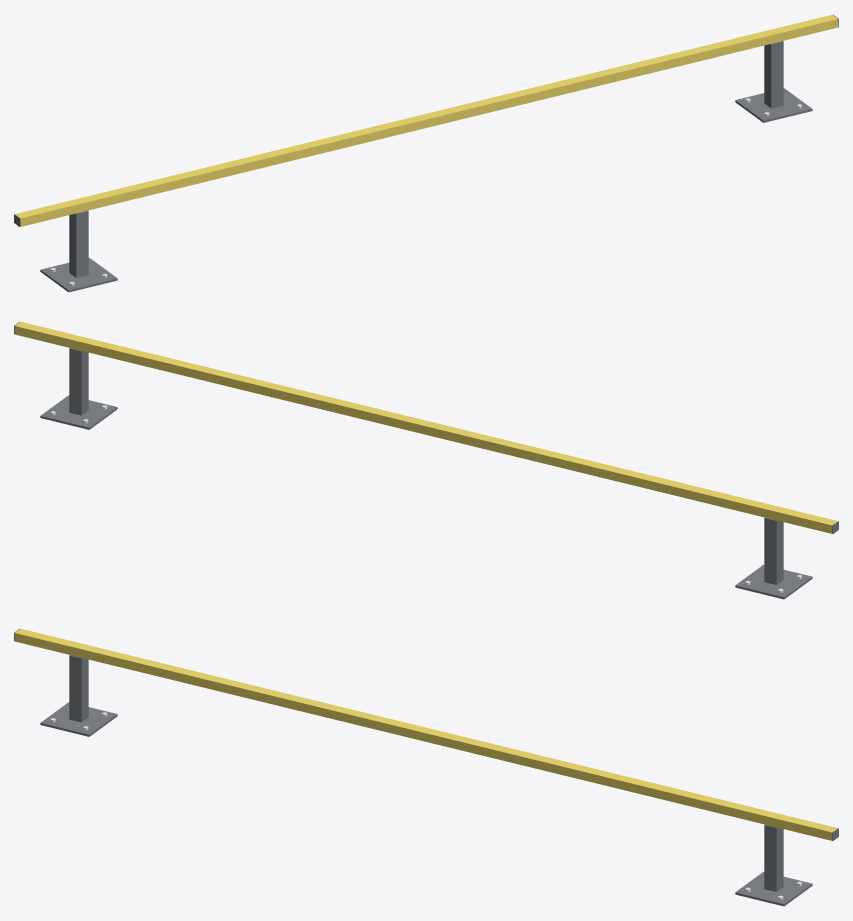
The model's file is flat_rail.glb.
The picture shows the model from 3 angles, top to bottom: view 1: azimuth 30°, elevation 25°; view 2: azimuth 150°, elevation 25°; view 3: azimuth 330°, elevation 25°; orthographic projection.
Visible parts, largest first — view 1: flat_rail_paint_y, flat_rail_steel_d; view 2: flat_rail_paint_y, flat_rail_steel_d; view 3: flat_rail_paint_y, flat_rail_steel_d.
Part boxes in pixels (x1,y1,x2,y2): flat_rail_paint_y: [15, 14, 838, 226]; flat_rail_steel_d: [14, 14, 838, 292]; flat_rail_paint_y: [14, 321, 837, 533]; flat_rail_steel_d: [14, 321, 838, 599]; flat_rail_paint_y: [14, 628, 837, 840]; flat_rail_steel_d: [14, 628, 838, 906].
Size of the model in its own units: 4.01 by 0.35 by 0.24.
